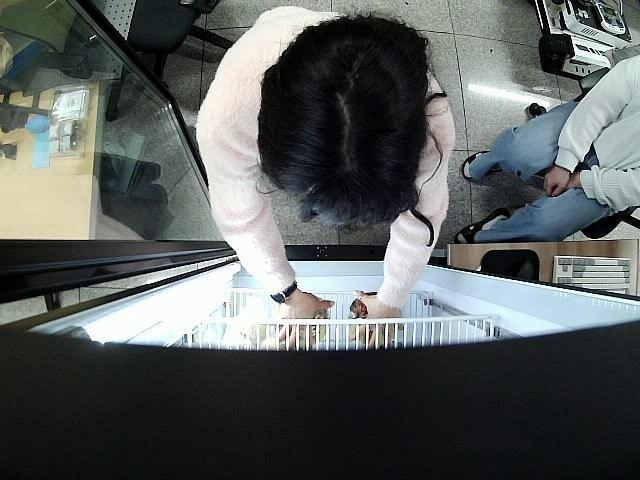03_chapagetti_L: (350, 291, 400, 353), (278, 304, 330, 352)
